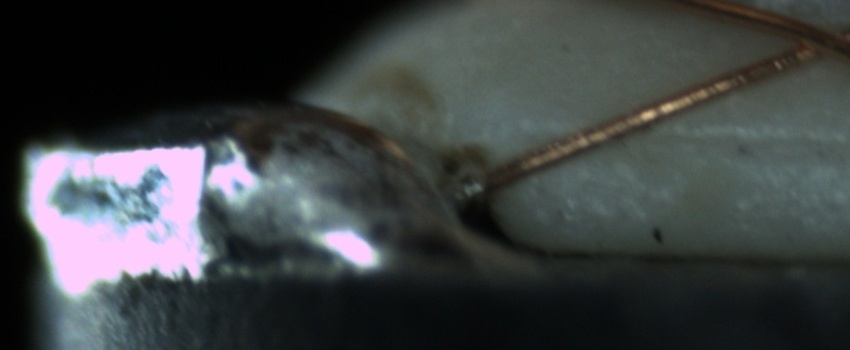CL: (770, 14, 847, 72)
DL: (563, 106, 848, 170)
